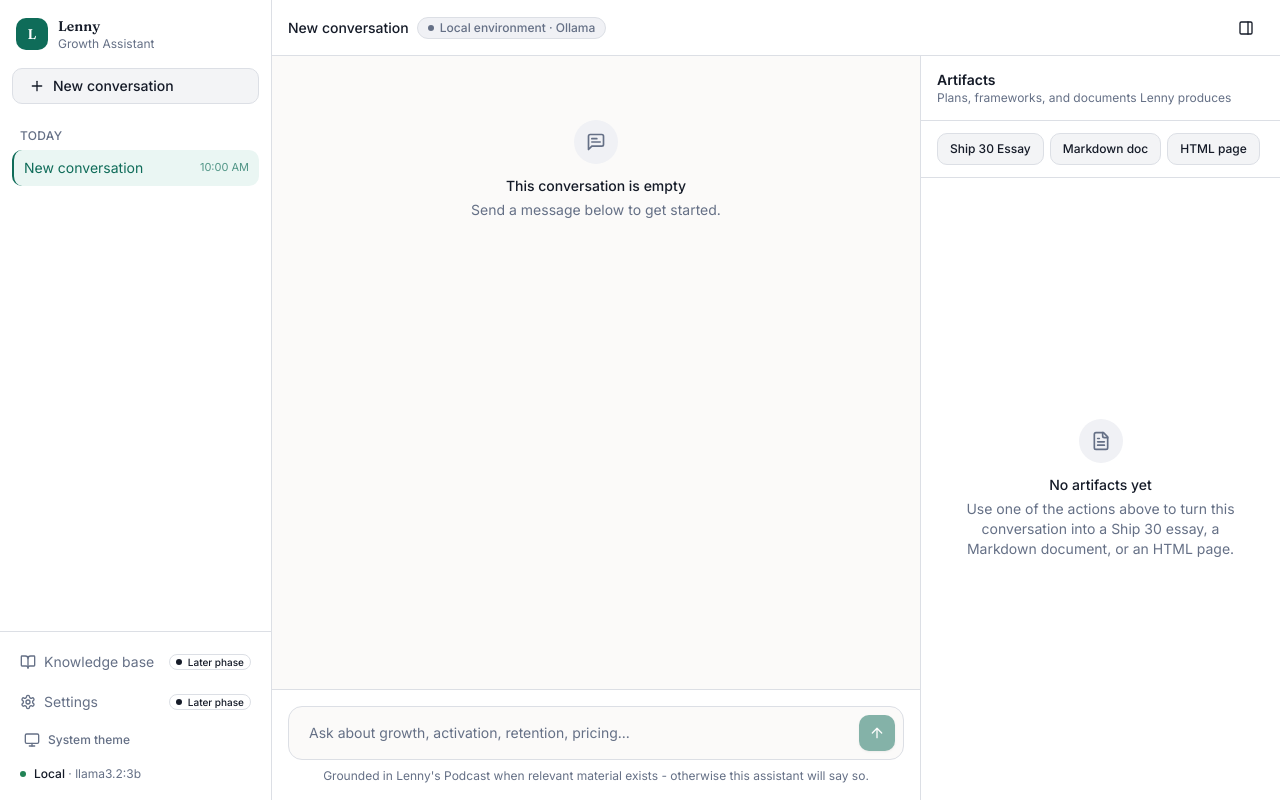
Test: composer and message flow › keeps the user message and shows a retry affordance when generation fails
In the text box named "message lenny growth assistant": (574, 733) [297,715,851,751], type "hello"
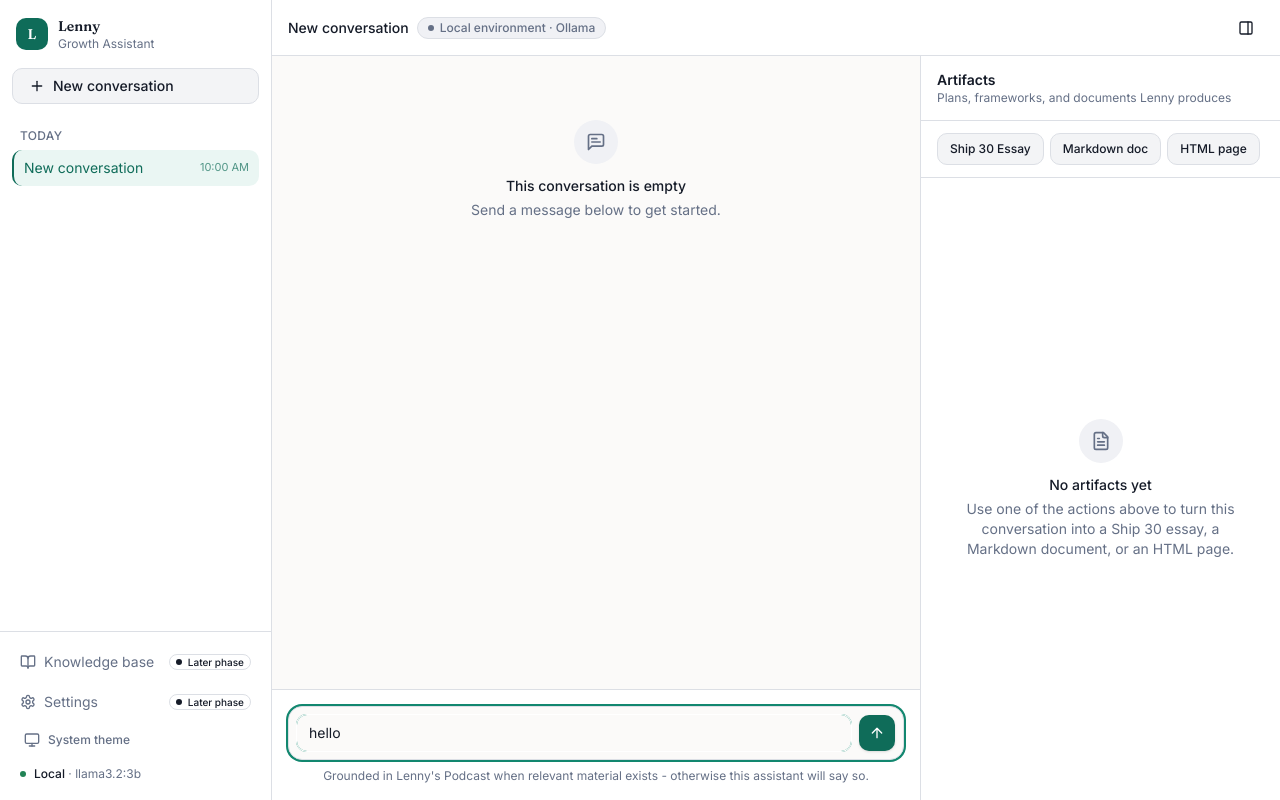
Click the button named "send message": (877, 733) [859,715,895,751]
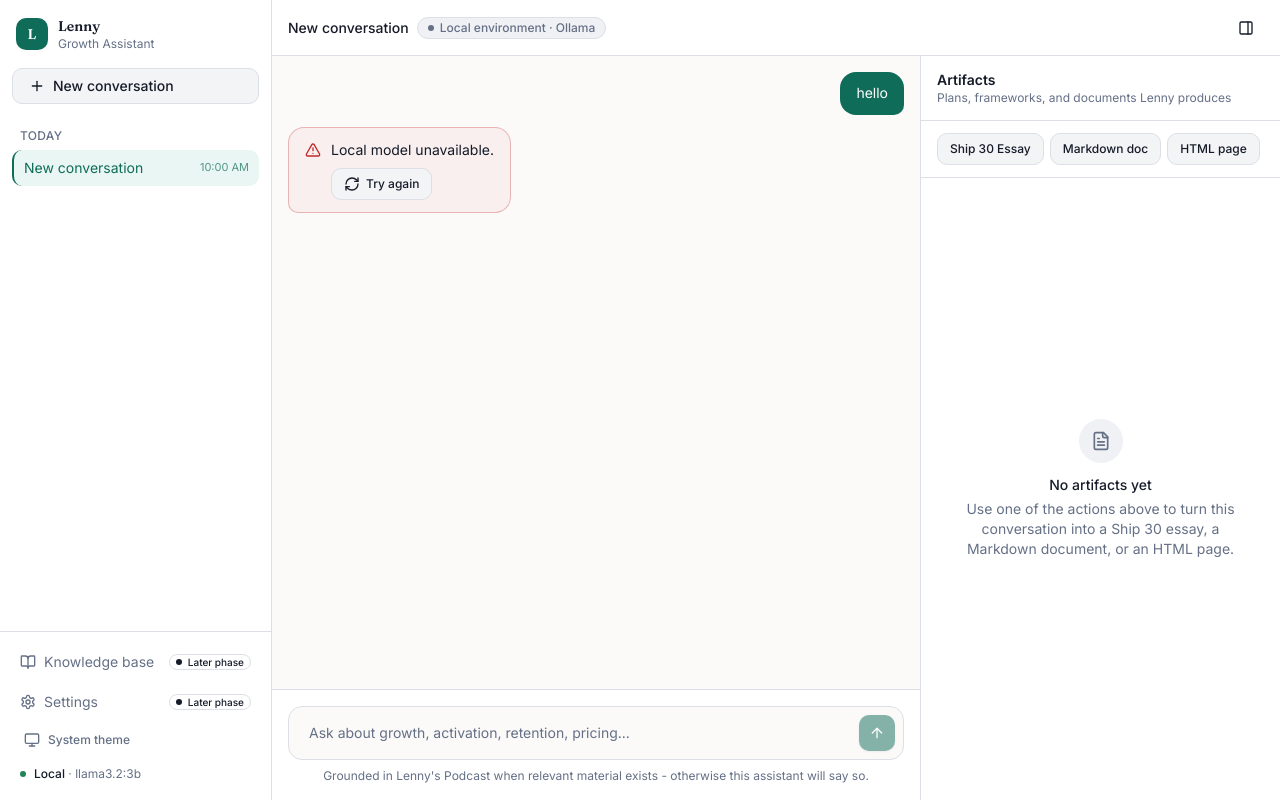
Expected: the text "hello" is shown, [840,72,904,115]
Expected: the message shows "Local model unavailable", [331,141,494,158]
Click the button "Try again": (382, 184) [331,168,432,200]
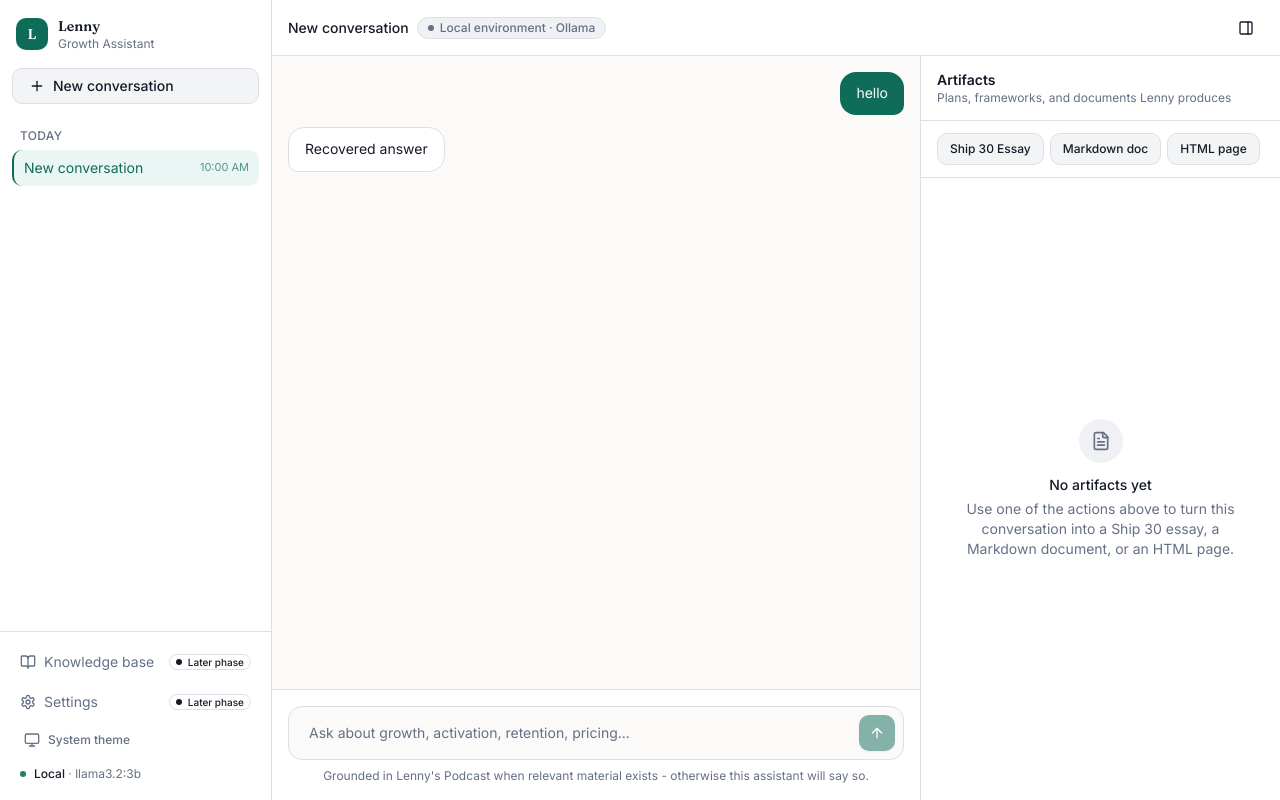
Expected: the text "Recovered answer" is shown, [305,138,428,161]
